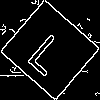L: (25, 25, 76, 78)
